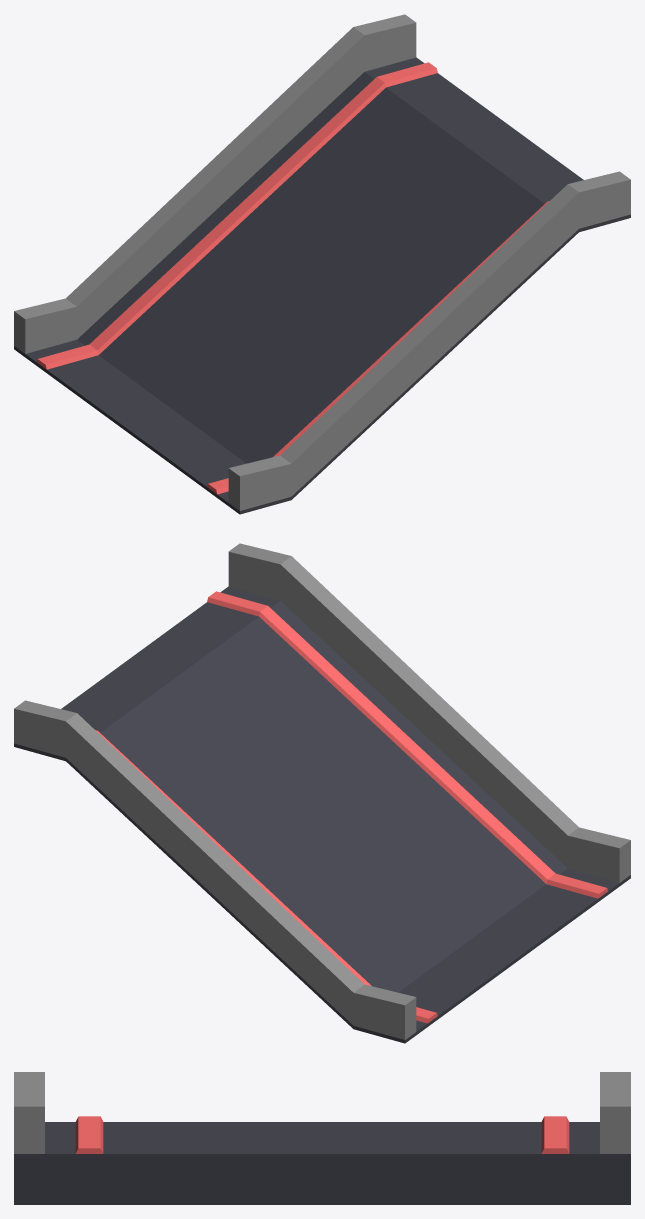
Rendered from kartkids_base_trk_300_rmp_transition_down_to_flat_1x1_z5.glb.
3 views of the same model, one above another, from view 1: azimuth 30°, elevation 25°; view 2: azimuth 150°, elevation 25°; view 3: azimuth 270°, elevation 25° (orthographic). The views are drawn at different scales.
Visible parts, largest first — view 1: kartkids_base_trk_010_rd_straight_1x1.077, kartkids_base_trk_020_trn_90_l_1x1.080; view 2: kartkids_base_trk_010_rd_straight_1x1.077, kartkids_base_trk_020_trn_90_l_1x1.080; view 3: kartkids_base_trk_010_rd_straight_1x1.077, kartkids_base_trk_020_trn_90_l_1x1.080.
Part boxes in pixels (x1,y1,x2,y2): kartkids_base_trk_010_rd_straight_1x1.077: (14,57,630,514); kartkids_base_trk_020_trn_90_l_1x1.080: (14,14,630,510); kartkids_base_trk_010_rd_straight_1x1.077: (14,586,630,1043); kartkids_base_trk_020_trn_90_l_1x1.080: (14,543,630,1039); kartkids_base_trk_010_rd_straight_1x1.077: (14,1116,630,1204); kartkids_base_trk_020_trn_90_l_1x1.080: (14,1072,630,1153).
Size of the model in its own units: 10 by 5.85 by 10.
